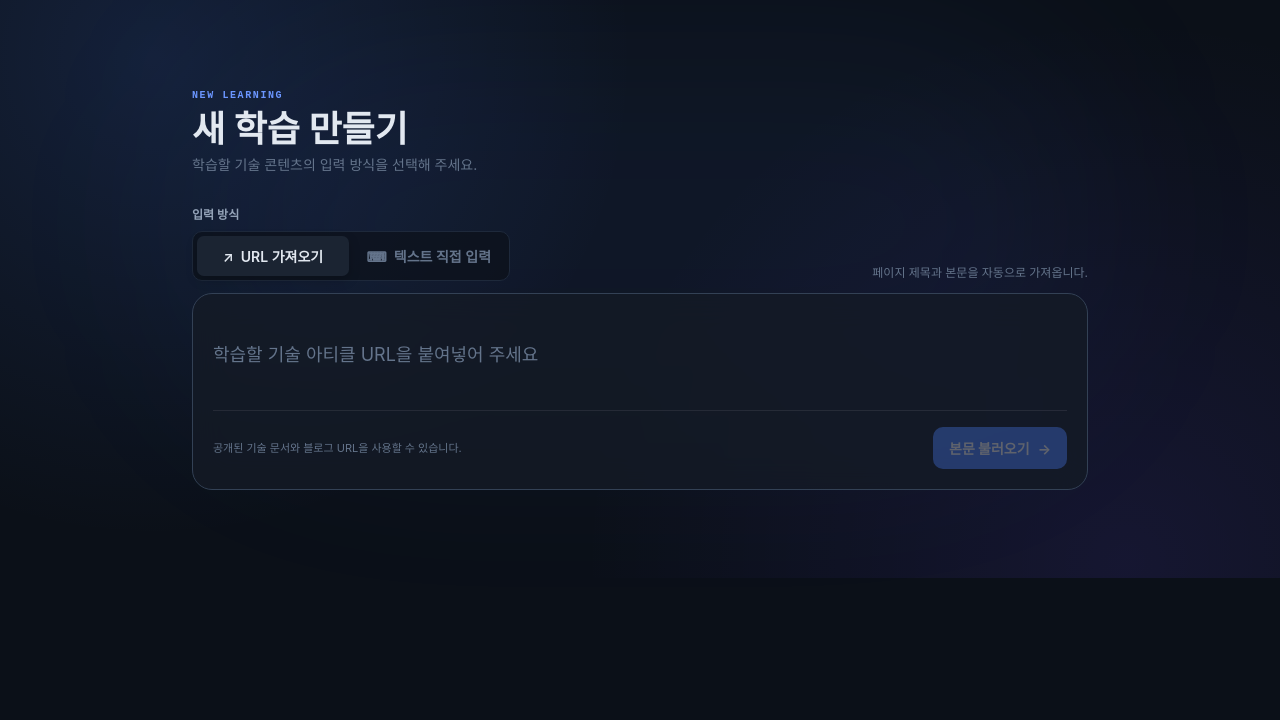
Test: HomePage › URL 추출 동작 통합 테스트 › 유효하지 않은 URL 형식을 입력하면 에러 메시지를 표시한다
This screenshot has width=1280, height=720.
Type "ftp://example.com/article" into the field labelled "기술 아티클 URL". click: (640, 354)
box: [213, 314, 1067, 394]
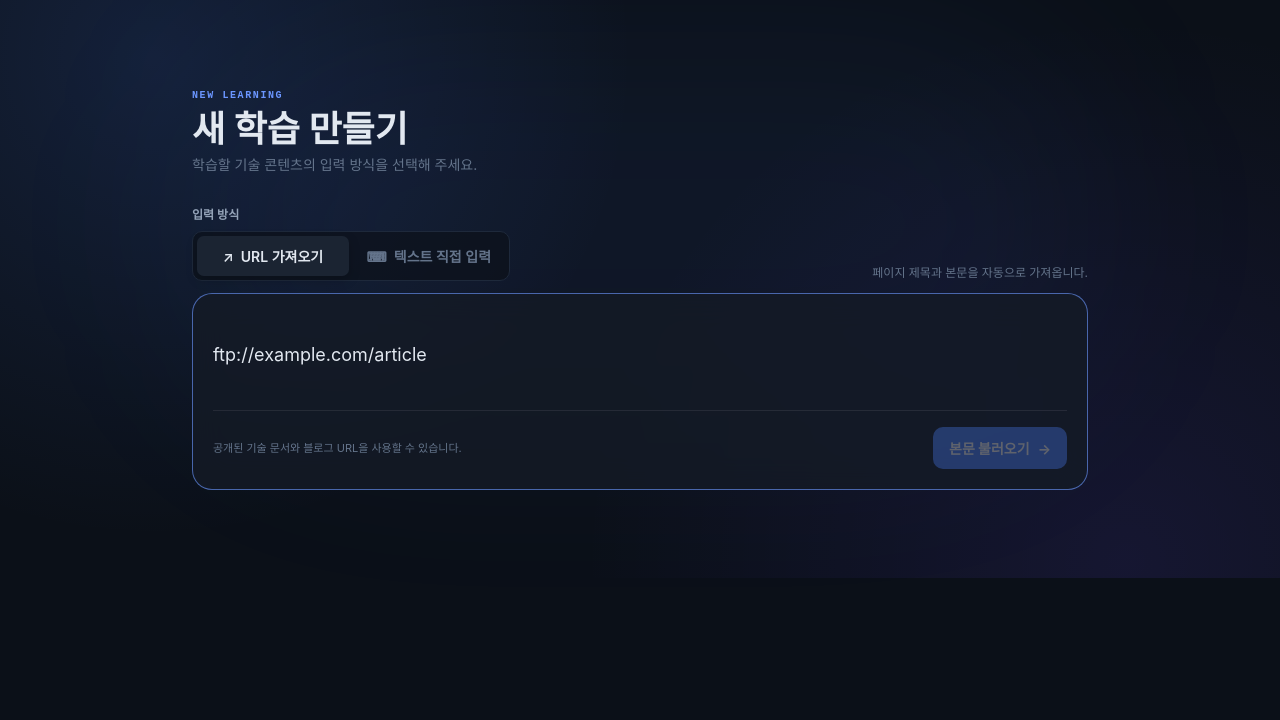
Click the button "본문 불러오기 →". click: (1000, 448)
box: [933, 427, 1067, 469]
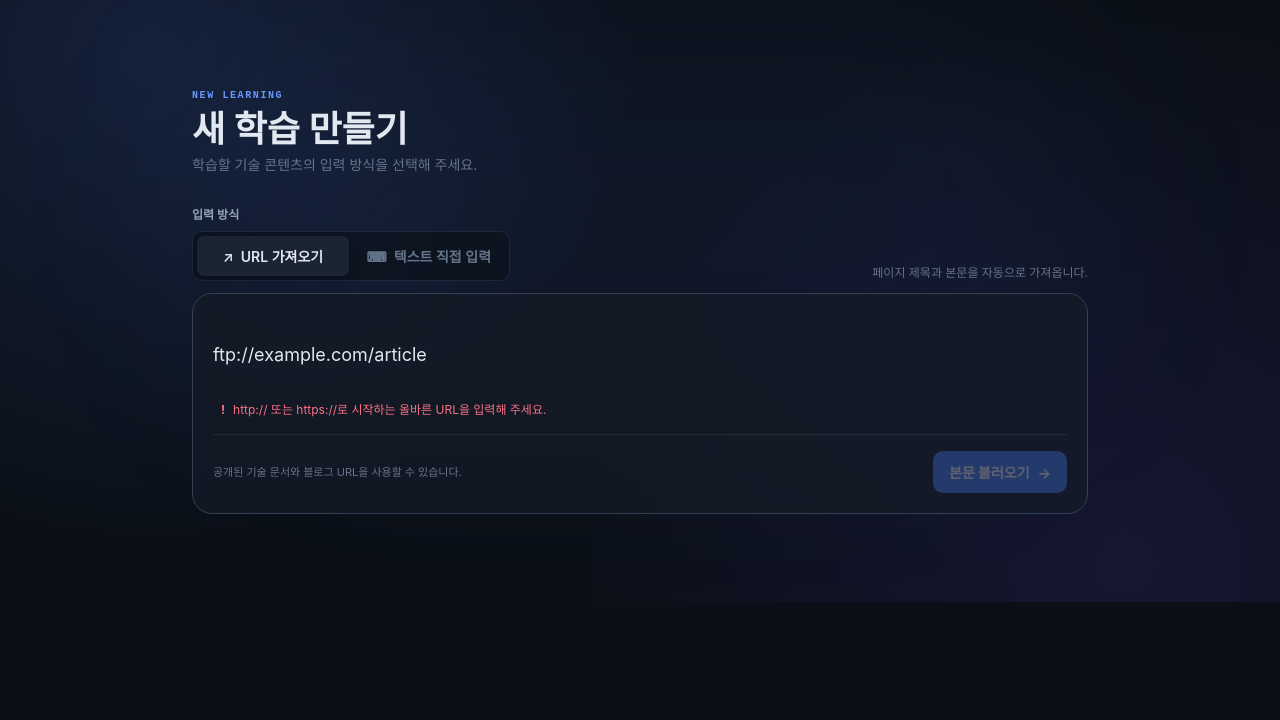
expect the text "http:// 또는 https://로 시작하는 올바른 URL을 입력해 주세요." is shown: met, box [233, 402, 546, 418]
